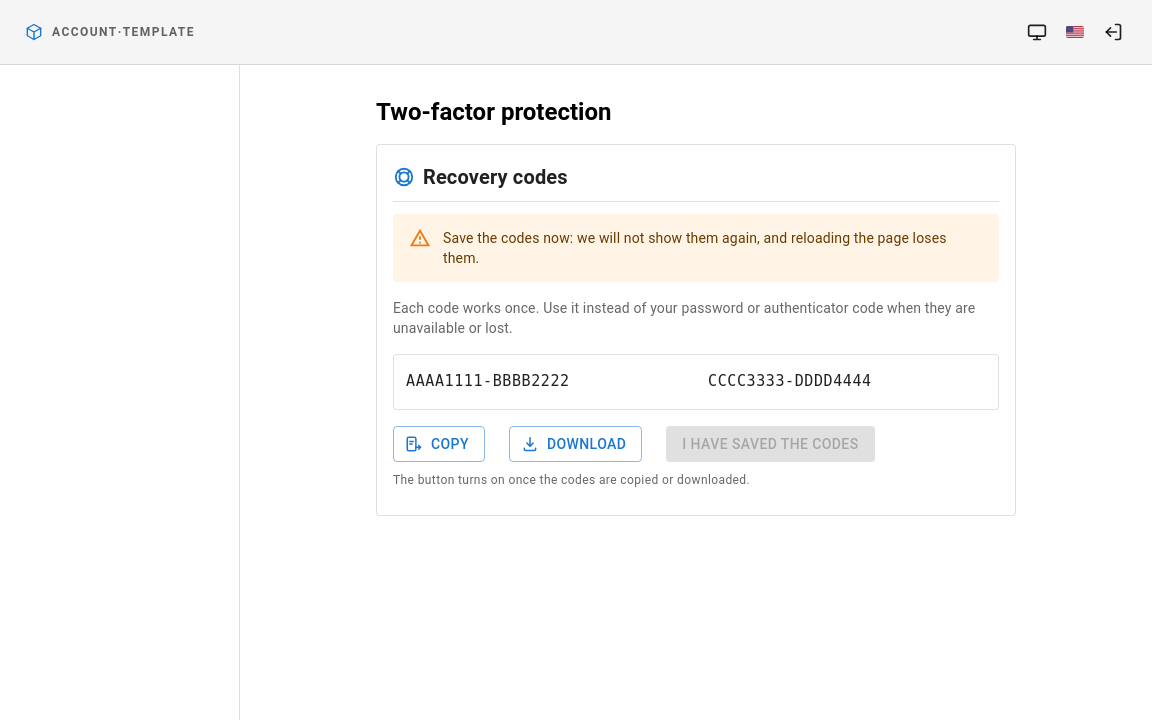
Test: RecoveryCodesPage › takes the copied mark back when the next copy fails
Click the button "Copy".
click(439, 444)  # box [393,426,485,462]
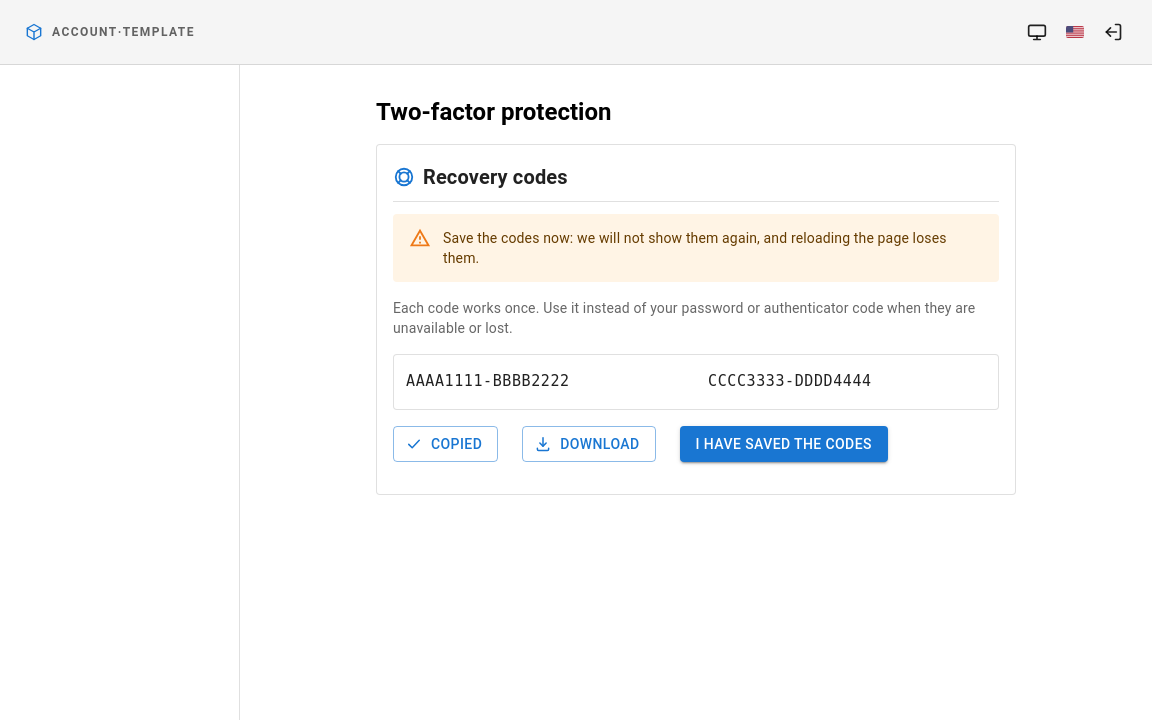
Click the button "Copied".
click(446, 444)  # box [393,426,498,462]
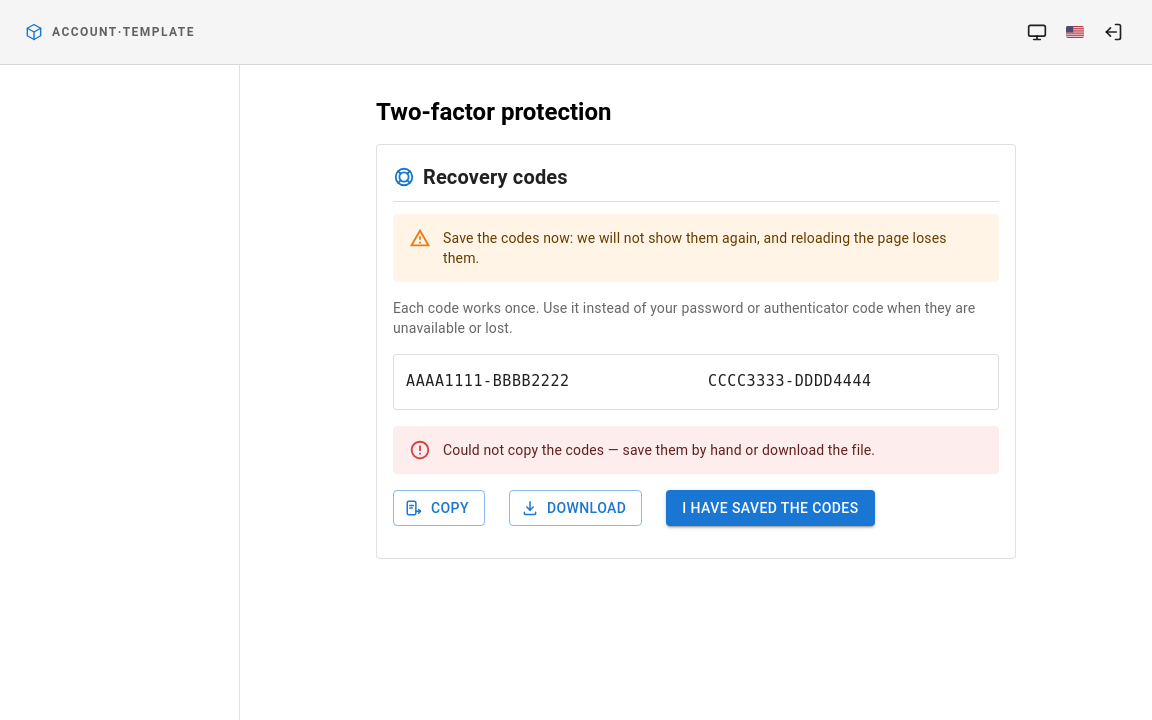
Check: the text "Could not copy the codes — save them by hand or download the file." is shown, box [443,442,875,458]
Check: the button "Copy" is shown, box [393,490,485,526]
